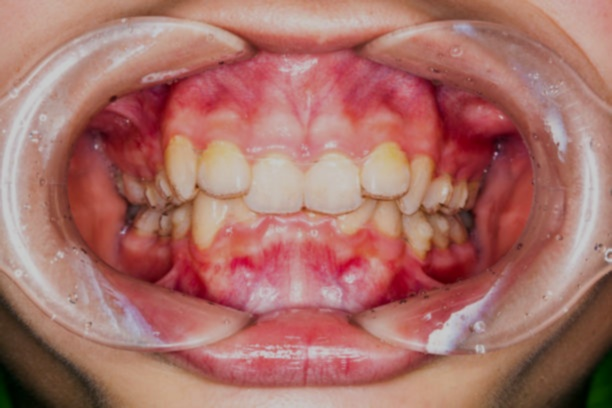Caries: (410, 197, 475, 228), (121, 190, 150, 232), (156, 191, 173, 242)
